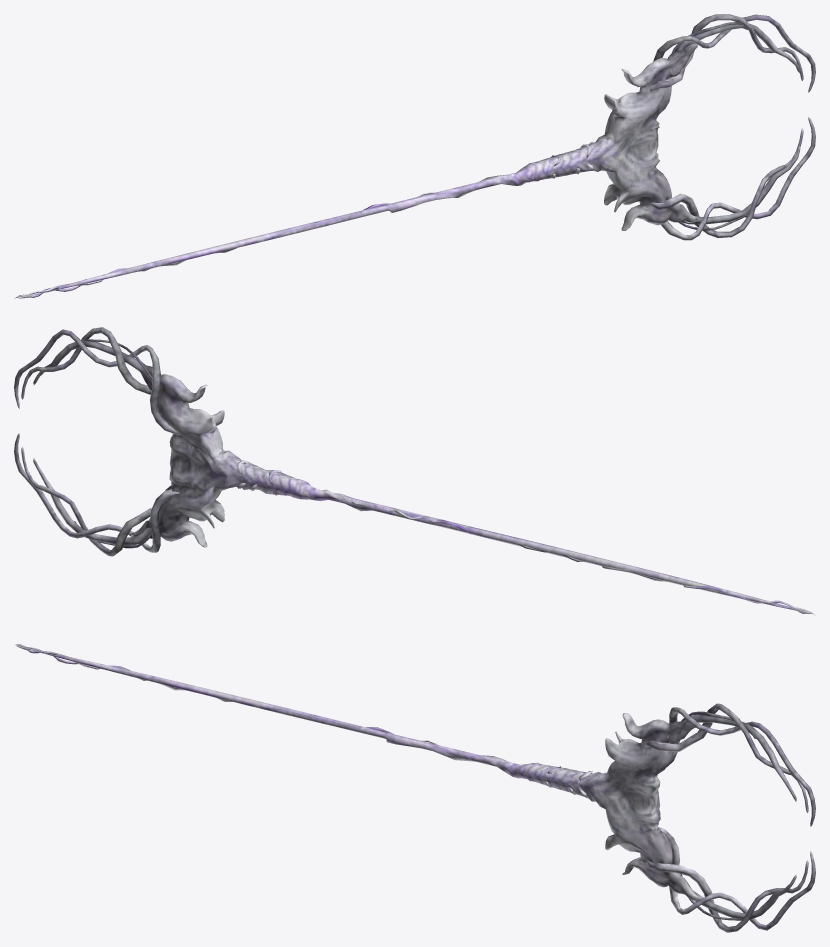
Rendered from weapon-wp_a_1167.glb.
3 renders of one model, top to bottom at view 1: azimuth 30°, elevation 25°; view 2: azimuth 150°, elevation 25°; view 3: azimuth 330°, elevation 25°, orthographic.
Parts seen in each view (by area): view 1: wp_a_1167_mesh; view 2: wp_a_1167_mesh; view 3: wp_a_1167_mesh.
Part boxes in pixels (x1=…): wp_a_1167_mesh: x1=14, y1=14, x2=815, y2=298; wp_a_1167_mesh: x1=14, y1=327, x2=815, y2=615; wp_a_1167_mesh: x1=14, y1=644, x2=815, y2=932.
Size of the model in its own units: 0.1338 by 0.0355 by 0.00537.
Materials: 2 (2 with a texture image).
